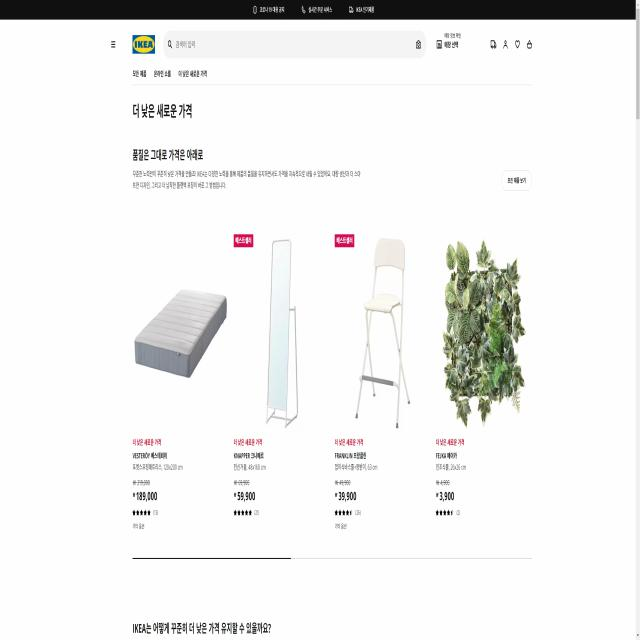menu-bar: (489, 35, 534, 53)
search: (162, 29, 428, 60)
tab-bar: (129, 64, 209, 82)
